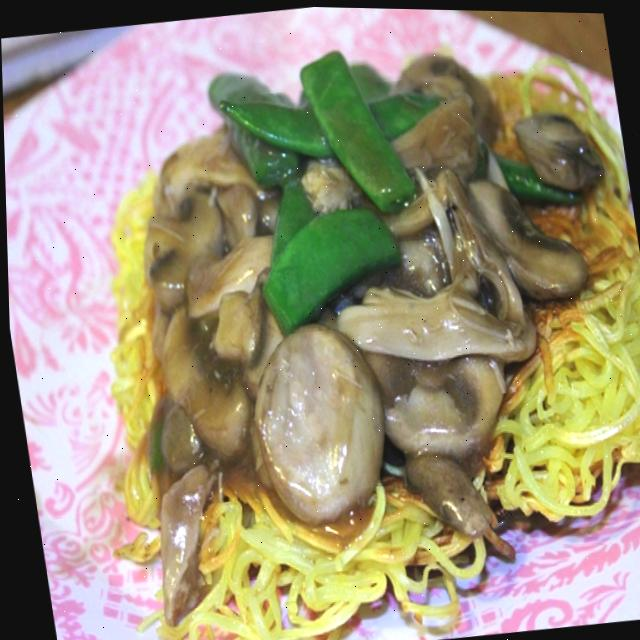面条主食: (59, 8, 640, 640)
